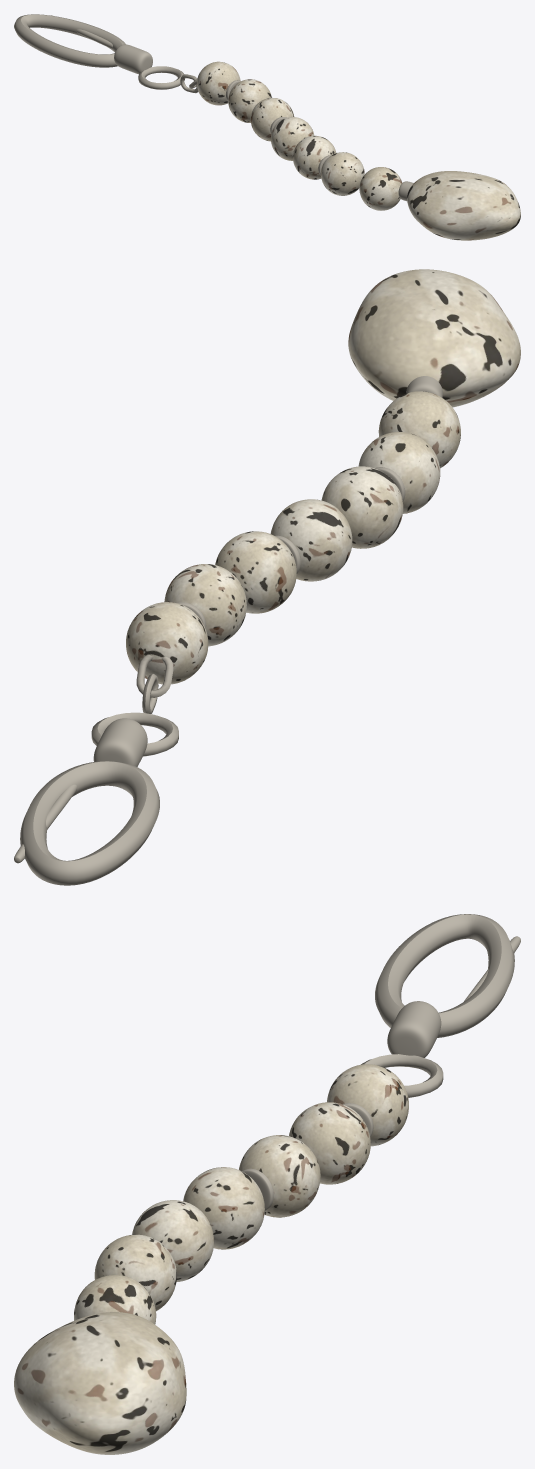
The model's file is standard.glb.
3 renders of one model, top to bottom at view 1: azimuth 30°, elevation 25°; view 2: azimuth 150°, elevation 25°; view 3: azimuth 330°, elevation 25°, orthographic. The views are drawn at different scales.
Parts seen in each view (by area): view 1: bead_pebble_1, hak.003, bead_round_2.001, bead_round_0.002, bead_round_0, bead_round_1.001, bead_round_1, bead_round_0.001, bead_round_2, bead_peg_0.004, kolko.029; view 2: bead_pebble_1, hak.003, bead_round_0, bead_round_1.001, bead_round_0.001, bead_round_2, bead_round_1, bead_round_2.001, bead_round_0.002, bead_peg_0.004, kolko.029, ogniwo.001; view 3: bead_pebble_1, hak.003, bead_round_0.001, bead_round_1, bead_round_2, bead_round_1.001, bead_round_0, bead_round_2.001, bead_round_0.002, bead_peg_0.004, kolko.029.
Boxes of the visible parts, left/top/right/bottom form: bead_pebble_1: left=407, top=171, right=520, bottom=240; hak.003: left=14, top=14, right=125, bottom=67; bead_round_2.001: left=321, top=152, right=364, bottom=195; bead_round_0.002: left=359, top=167, right=402, bottom=210; bead_round_0: left=197, top=61, right=240, bottom=105; bead_round_1.001: left=293, top=135, right=336, bottom=179; bead_round_1: left=228, top=79, right=271, bottom=122; bead_round_0.001: left=271, top=117, right=314, bottom=160; bead_round_2: left=250, top=97, right=294, bottom=141; bead_peg_0.004: left=114, top=44, right=152, bottom=74; kolko.029: left=138, top=66, right=184, bottom=89; bead_pebble_1: left=348, top=269, right=520, bottom=407; hak.003: left=20, top=761, right=159, bottom=885; bead_round_0: left=126, top=602, right=208, bottom=684; bead_round_1.001: left=321, top=466, right=403, bottom=548; bead_round_0.001: left=270, top=499, right=352, bottom=581; bead_round_2: left=215, top=531, right=296, bottom=613; bead_round_1: left=164, top=564, right=246, bottom=646; bead_round_2.001: left=358, top=432, right=440, bottom=513; bead_round_0.002: left=378, top=391, right=460, bottom=468; bead_peg_0.004: left=93, top=718, right=147, bottom=766; kolko.029: left=91, top=712, right=178, bottom=756; ogniwo.001: left=136, top=654, right=173, bottom=697; bead_pebble_1: left=14, top=1312, right=186, bottom=1454; hak.003: left=375, top=914, right=514, bottom=1037; bead_round_0.001: left=183, top=1167, right=264, bottom=1249; bead_round_1: left=289, top=1102, right=370, bottom=1184; bead_round_2: left=239, top=1135, right=320, bottom=1217; bead_round_1.001: left=132, top=1200, right=213, bottom=1282; bead_round_0: left=327, top=1064, right=408, bottom=1146; bead_round_2.001: left=94, top=1234, right=176, bottom=1311; bead_round_0.002: left=74, top=1275, right=156, bottom=1324; bead_peg_0.004: left=387, top=1001, right=441, bottom=1057; kolko.029: left=361, top=1054, right=443, bottom=1097.
Size of the model in its own units: 3.42 by 0.9879 by 11.51.
4 materials, 3 textured.
